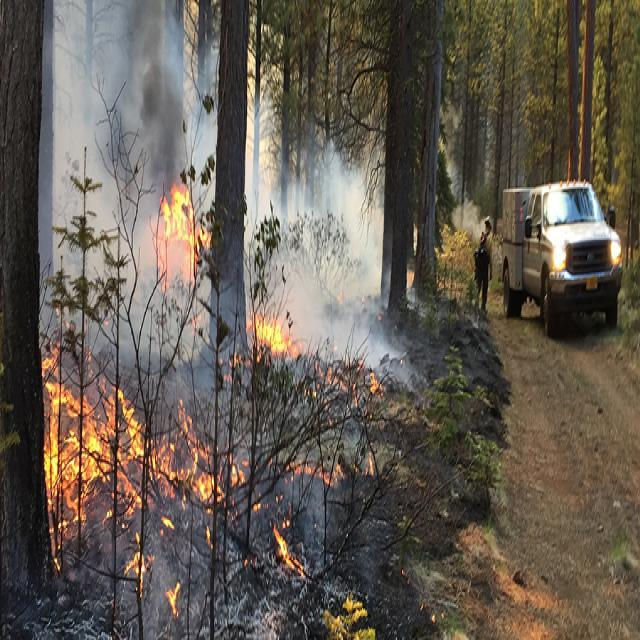Fire: (30, 173, 377, 640)
Smoke: (45, 0, 338, 166), (240, 94, 390, 312)
